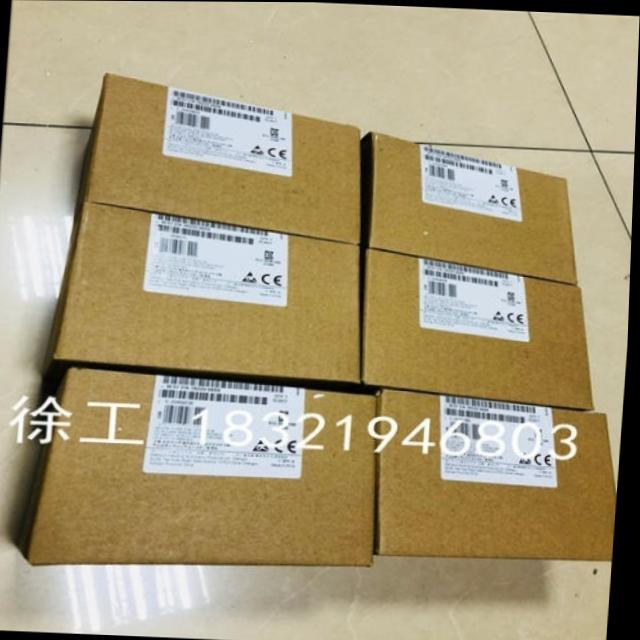box: (17, 367, 380, 567), (41, 202, 363, 396), (74, 71, 362, 243), (378, 386, 620, 561), (364, 247, 597, 408), (362, 131, 581, 283)
